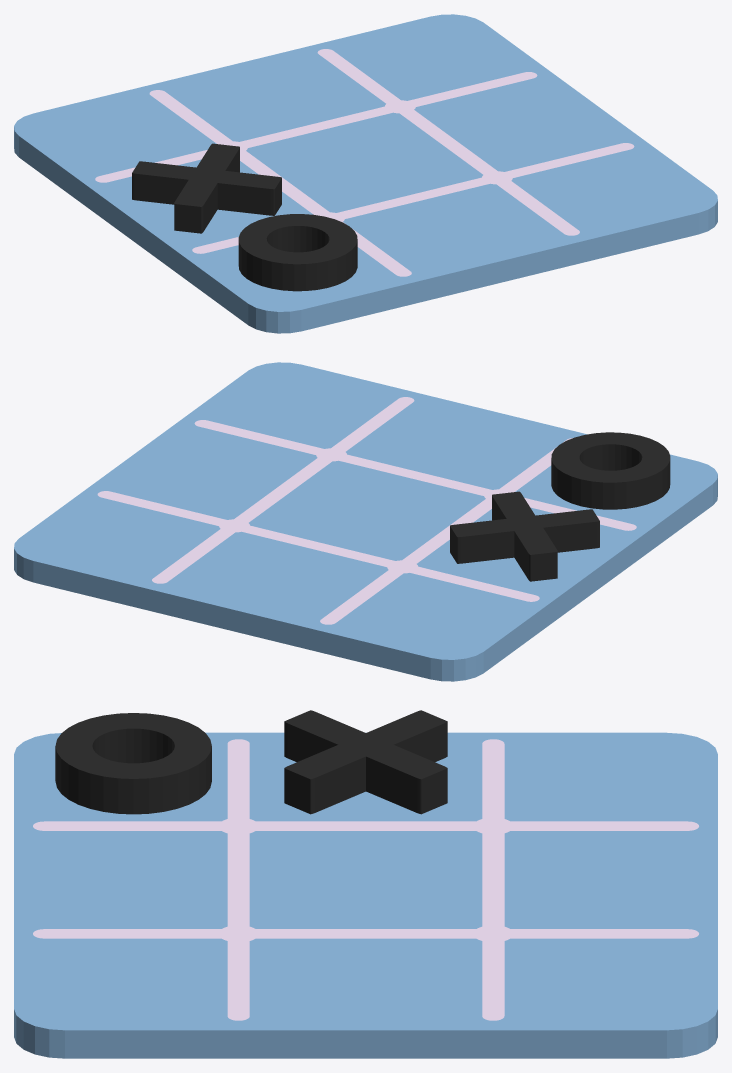
File: tictactoee.fbx
3 views of the same model, one above another, from view 1: azimuth 30°, elevation 25°; view 2: azimuth 150°, elevation 25°; view 3: azimuth 270°, elevation 25° (orthographic). The views are drawn at different scales.
Visible parts, largest first — view 1: Cube, Curve, Cylinder.002, Cube.001; view 2: Cube, Curve, Cylinder.002, Cube.001; view 3: Cube, Curve, Cube.001, Cylinder.002.
Boxes of the visible parts, left/top/right/bottom form: Cube: left=14, top=14, right=717, bottom=333; Curve: left=95, top=49, right=634, bottom=276; Cylinder.002: left=238, top=214, right=357, bottom=291; Cube.001: left=132, top=143, right=281, bottom=233; Cube: left=14, top=362, right=717, bottom=681; Curve: left=97, top=397, right=636, bottom=624; Cylinder.002: left=551, top=432, right=670, bottom=509; Cube.001: left=450, top=491, right=599, bottom=581; Cube: left=14, top=732, right=717, bottom=1058; Curve: left=33, top=739, right=698, bottom=1020; Cube.001: left=284, top=710, right=447, bottom=814; Cylinder.002: left=55, top=713, right=211, bottom=814.
Size of the model in its own units: 137 by 13.73 by 137.
